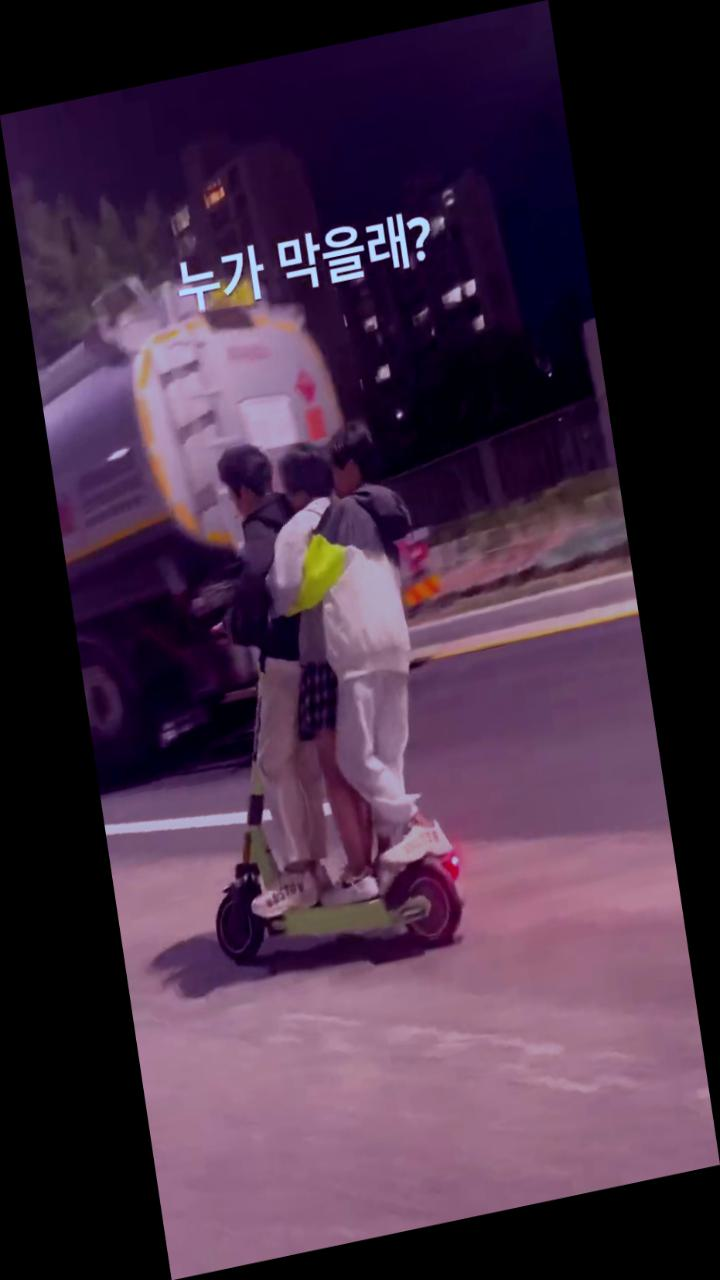multiple: (139, 398, 486, 988)
